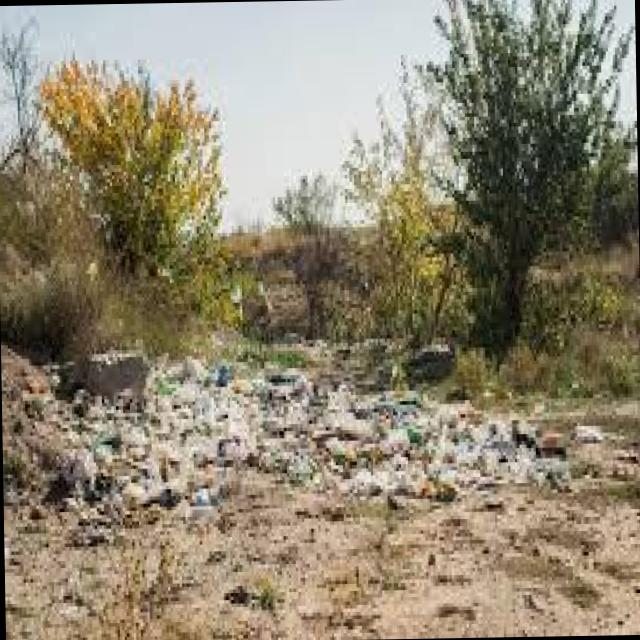garbage: (52, 342, 562, 502)
